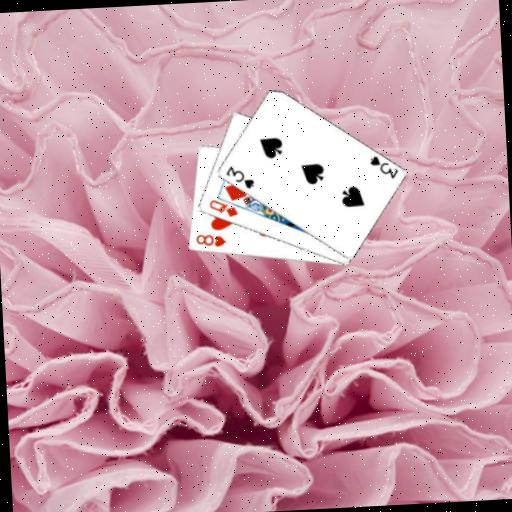3S: (222, 162, 256, 192), (366, 152, 400, 181)
8H: (192, 230, 228, 250)
QD: (205, 196, 239, 220)
